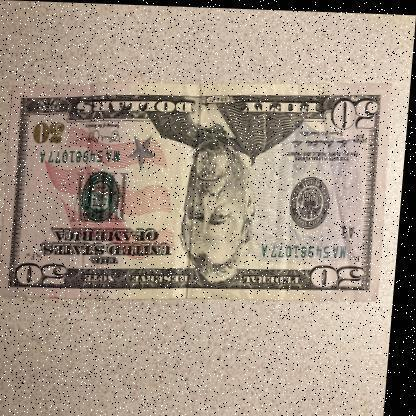dollar_front: (1, 70, 396, 308)
